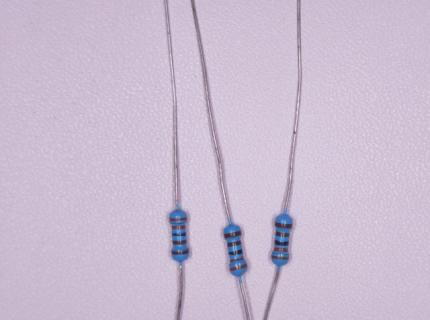Black band: (228, 249, 243, 255), (275, 240, 289, 246), (172, 232, 187, 236)
Brown band: (224, 231, 242, 238), (275, 222, 292, 229), (275, 231, 290, 237), (172, 250, 189, 255), (227, 241, 241, 247), (172, 241, 187, 244)
Orange band: (230, 264, 248, 272), (271, 255, 289, 261), (169, 217, 188, 221), (230, 257, 245, 262), (274, 247, 288, 252), (172, 225, 186, 229)
